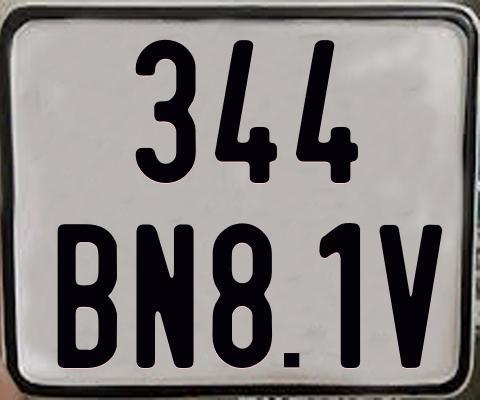1: (316, 221, 360, 369)
3: (134, 37, 200, 182)
4: (215, 40, 283, 183), (296, 37, 359, 186)
8: (211, 220, 277, 371)
B: (55, 224, 117, 373)
N: (134, 224, 196, 369)
V: (378, 222, 447, 369)
